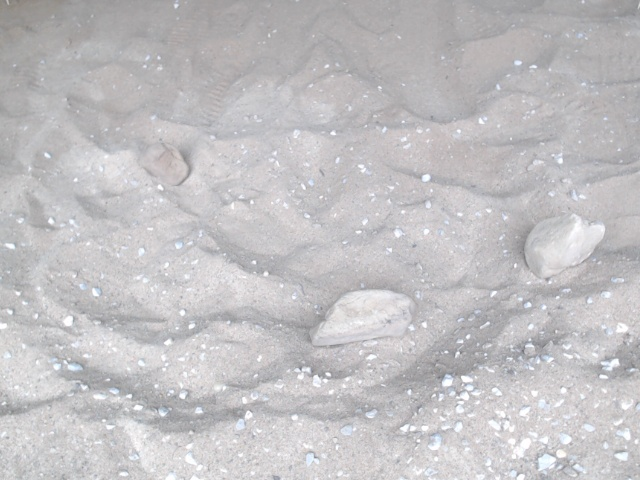rock: (305, 283, 422, 352), (519, 207, 610, 285), (135, 135, 194, 189)
